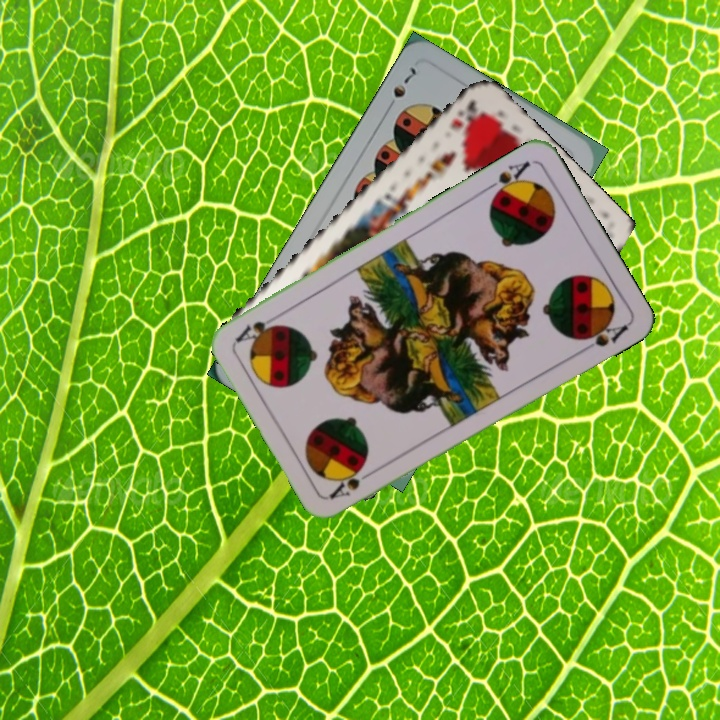HK: (446, 96, 486, 136)
S7: (382, 62, 419, 114)
SA: (481, 156, 533, 202), (325, 464, 380, 502)
